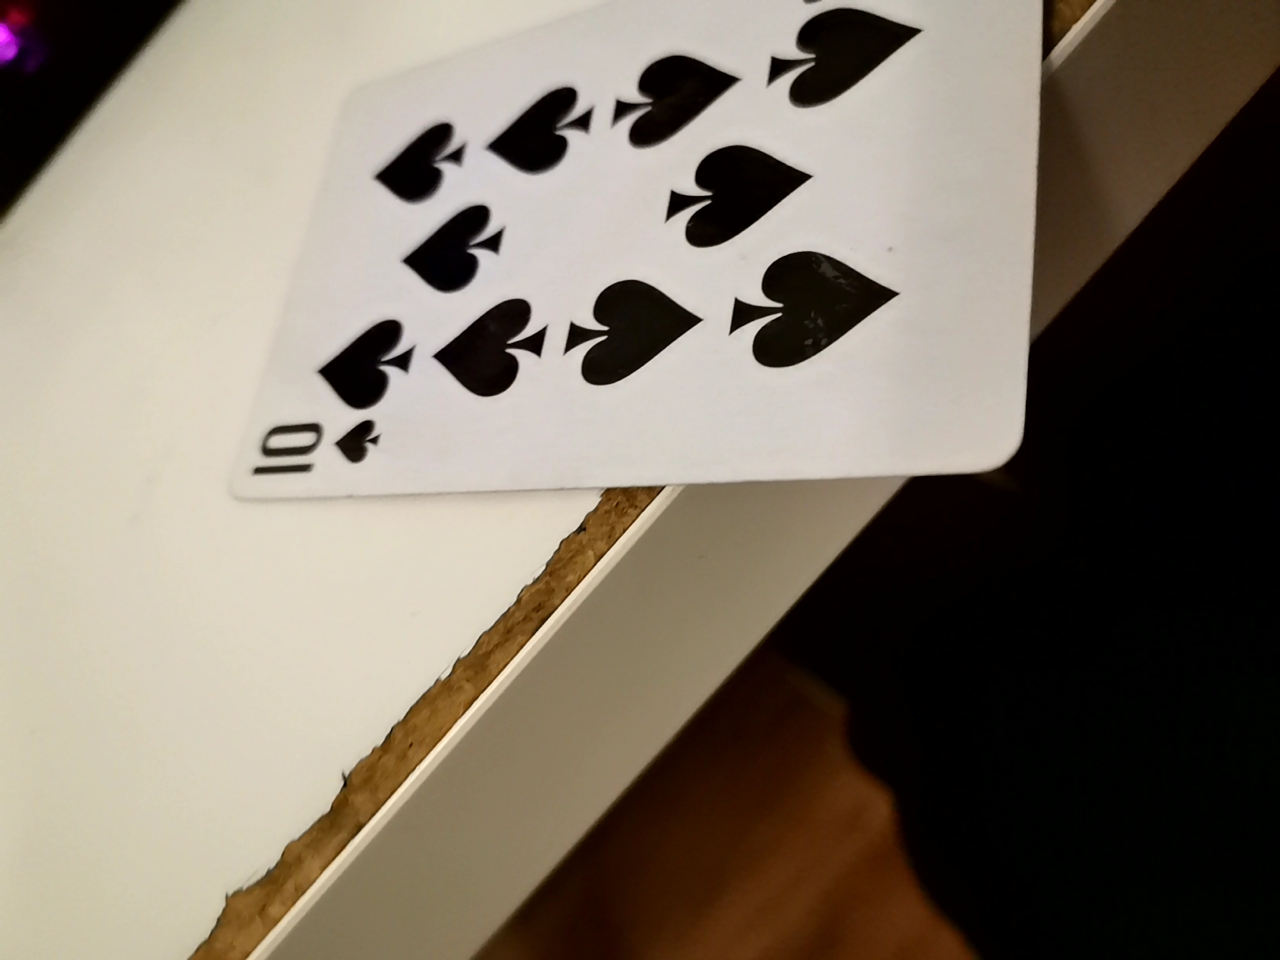ht 10: (246, 9, 1048, 566)
